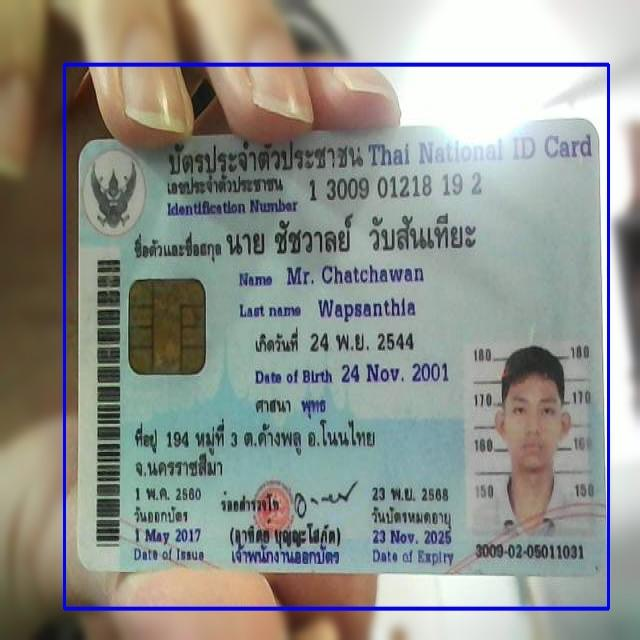Address_th: (129, 415, 390, 482)
Date_of_Birth: (338, 357, 451, 391)
Date_of_Expiry: (369, 525, 454, 549)
Date_of_Issue: (126, 524, 206, 549)
First_Name: (283, 260, 427, 289)
ID_Number: (308, 170, 486, 205)
Image: (465, 346, 596, 540)
Last_Name: (314, 291, 419, 326)
Thai_Name: (226, 212, 487, 260)
